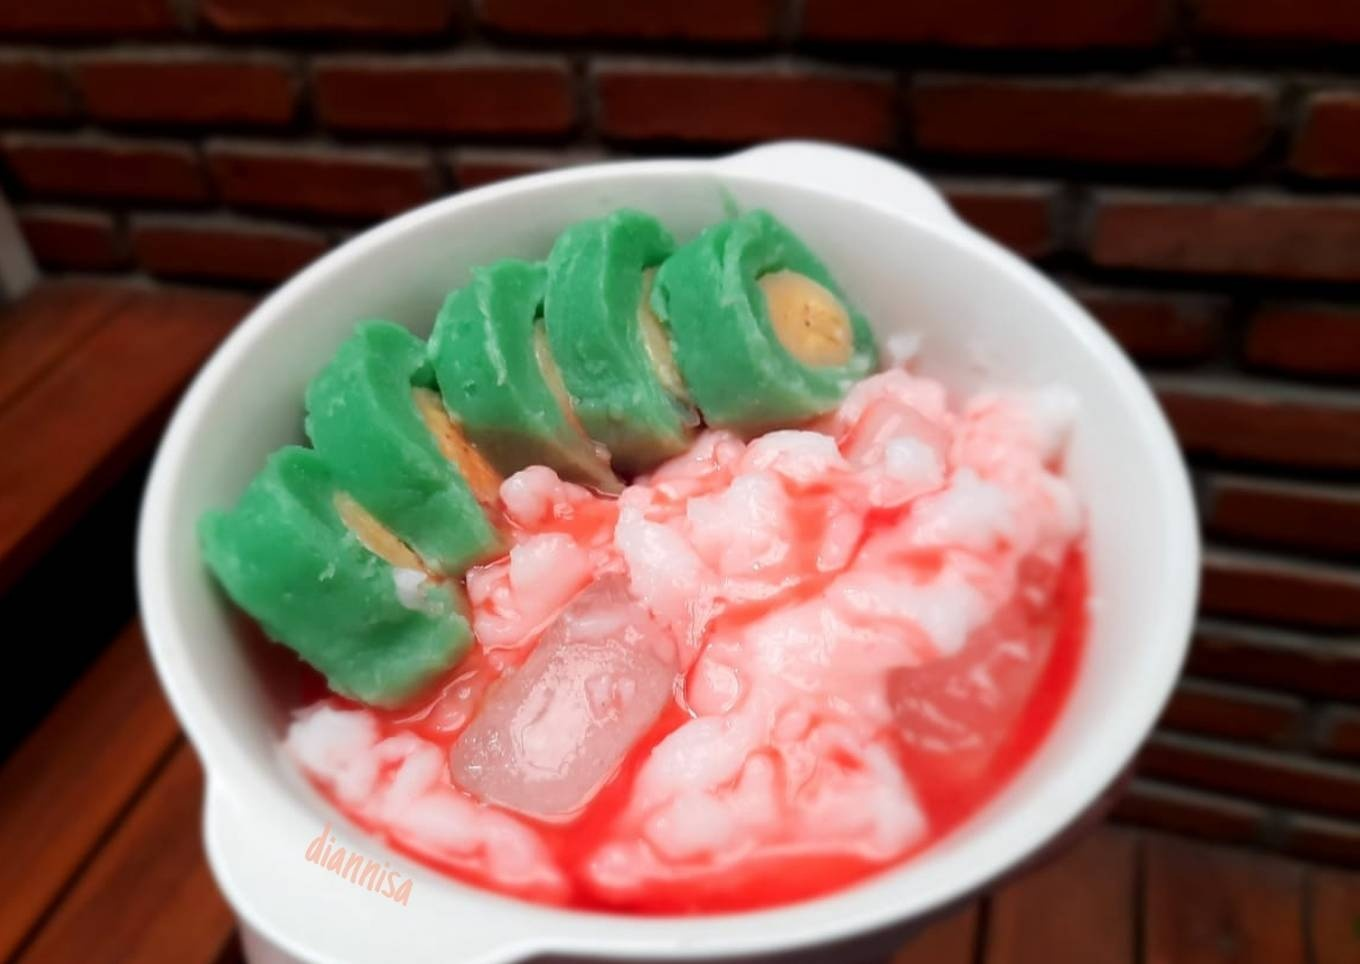es_pisang_ijo: (205, 219, 1083, 923)
